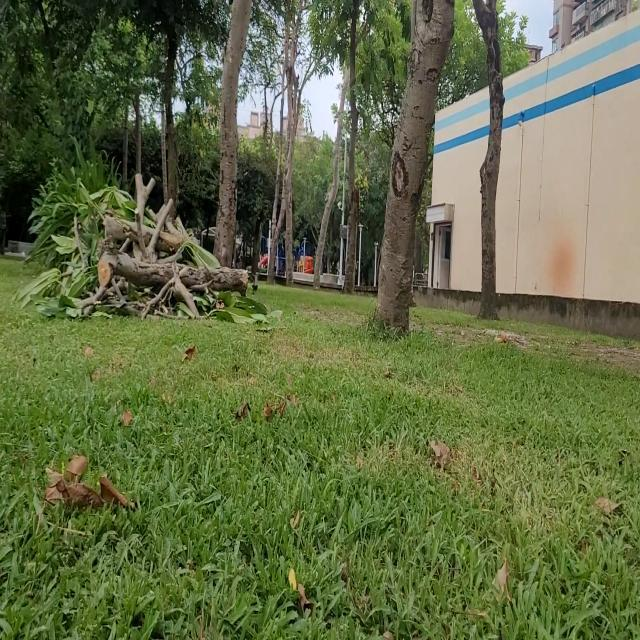tree: (360, 0, 452, 342), (474, 0, 502, 340), (314, 19, 342, 298), (217, 0, 237, 272), (348, 10, 362, 301), (284, 26, 295, 288), (167, 18, 181, 206), (134, 66, 142, 178), (120, 87, 129, 182)
